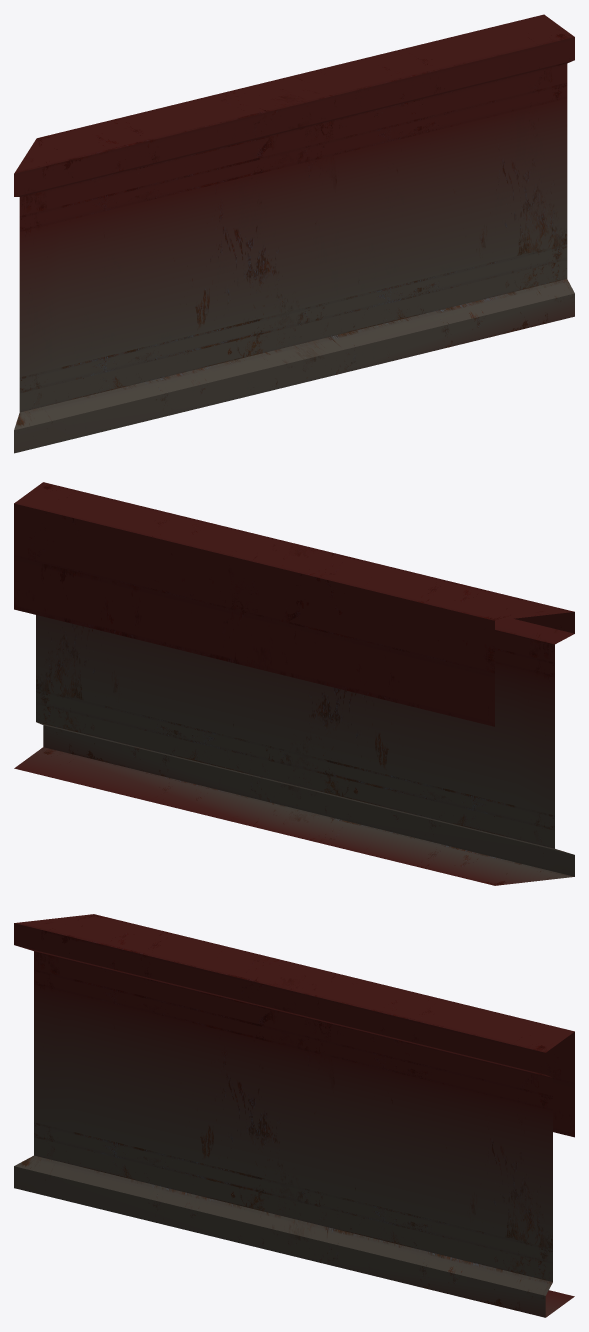
File: Cornice_Metal_L.gltf
The picture shows the model from 3 angles, top to bottom: view 1: azimuth 30°, elevation 25°; view 2: azimuth 150°, elevation 25°; view 3: azimuth 330°, elevation 25°; orthographic projection. The views are drawn at different scales.
Visible parts, largest first — view 1: Cornice_Metal_L; view 2: Cornice_Metal_L; view 3: Cornice_Metal_L.
Part boxes in pixels (x1,y1,x2,y2): Cornice_Metal_L: [14, 14, 574, 453]; Cornice_Metal_L: [14, 482, 574, 885]; Cornice_Metal_L: [14, 914, 574, 1317].
Size of the model in its own units: 2.1 by 1 by 0.2.
Materials: 1 (1 with a texture image).
